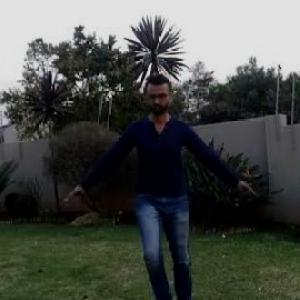land: (86, 39, 246, 299)
